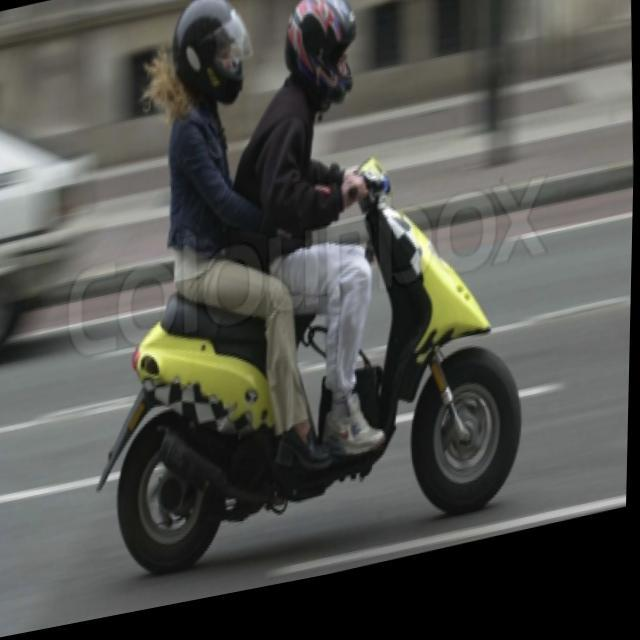Helmet: (160, 0, 255, 115), (280, 0, 360, 114)
